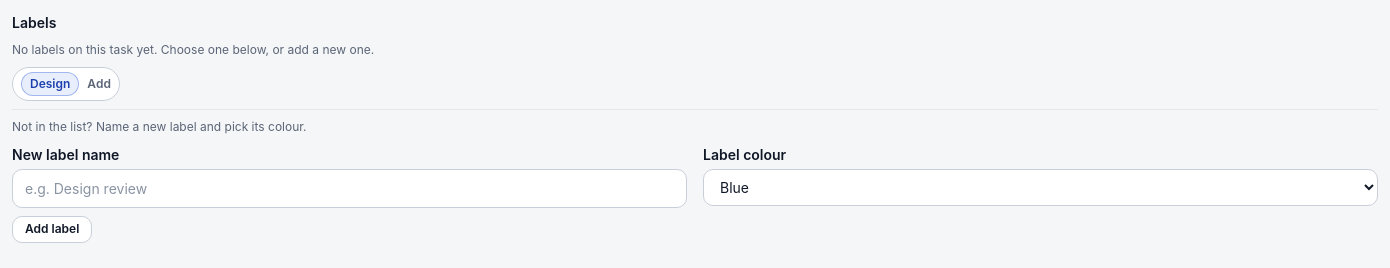
Test case: LabelPicker › creates a new label from the inline control and selects it
Check: the button with aria-label "Design label" is shown, box [12,67,120,101]
Type "  Research  " into the field labelled "New label name" at (350, 188), box [12,169,687,208]
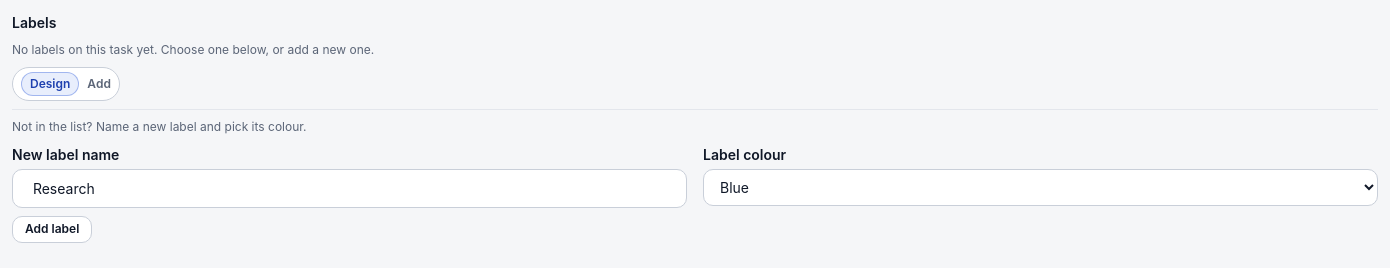
Select "Green" in the dropdown labelled "Label colour" at (1040, 188), box [703,169,1378,206]
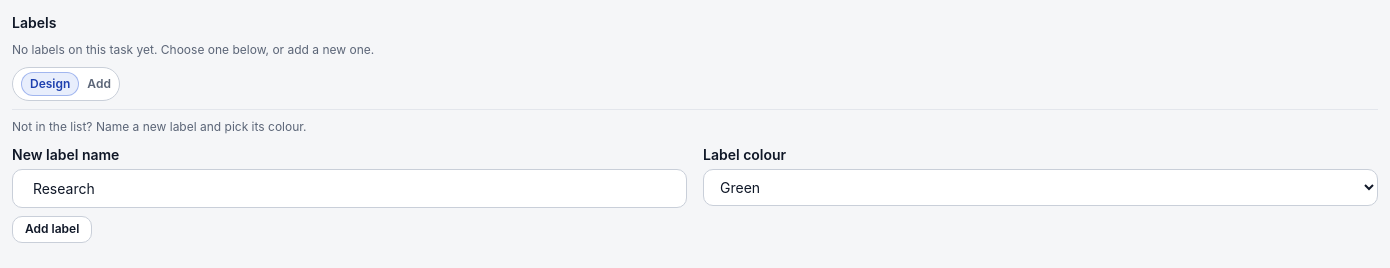
Click the button "Add label" at (52, 229), box [12,216,92,243]
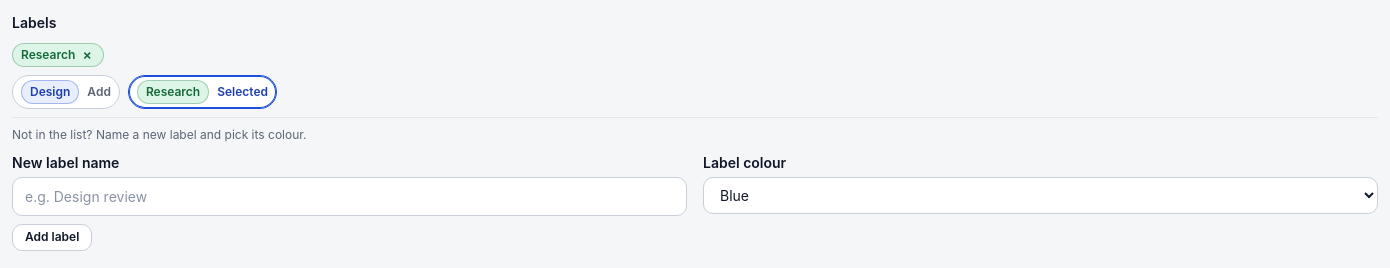
Check: the button named "Remove Research" is shown, box [79,47,95,63]
Check: the field labelled "New label name" is empty, box [12,177,687,216]
